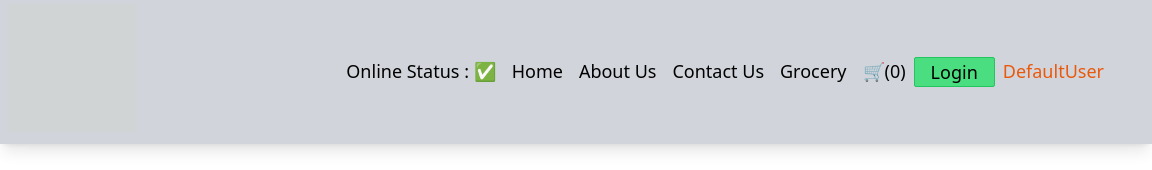
Should change button login to logout
Click the button "Login".
click(954, 72)  # box 914,57 -> 995,87
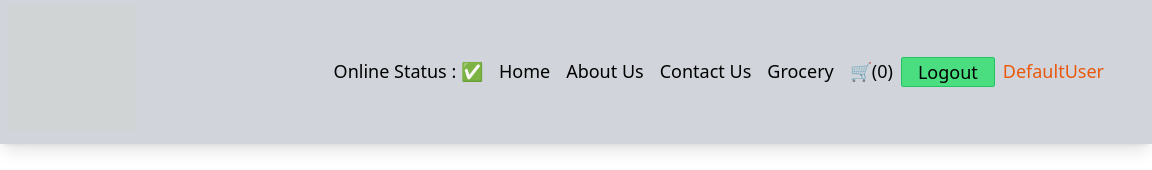
Result: the button "Logout" is shown at 901,57 -> 995,87
